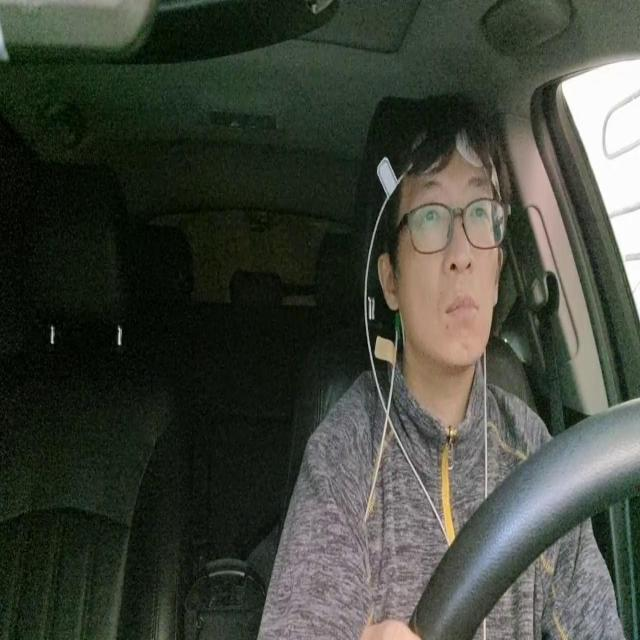Attentive: (380, 92, 505, 370)
